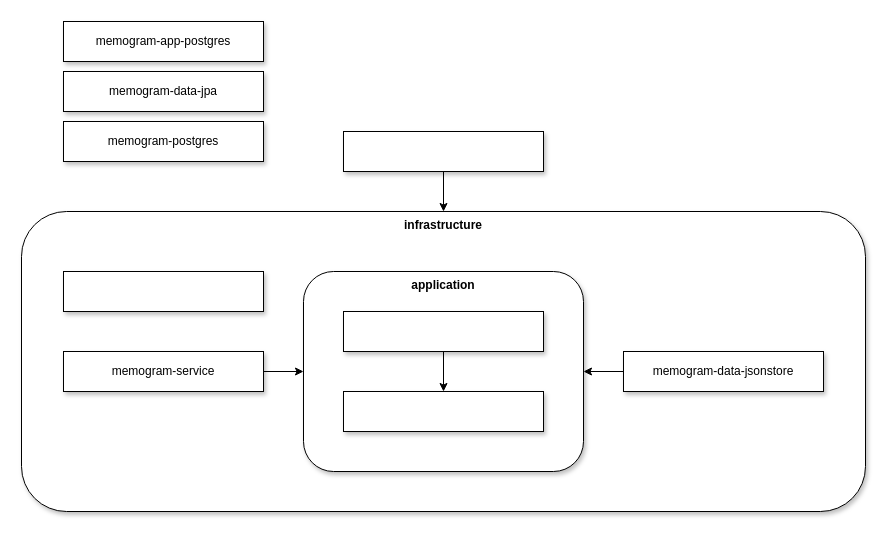
The diagram is 889 pixels wide and 536 high, and some of its shapes have lost their labels. The centre of each missing label's shape, as x and y in pixels:
"memogram-app-jsonstore" goes at (444,152).
"memogram-business" goes at (444,332).
"memogram-domain" goes at (444,412).
"memogram-ui-angular" goes at (164,292).
